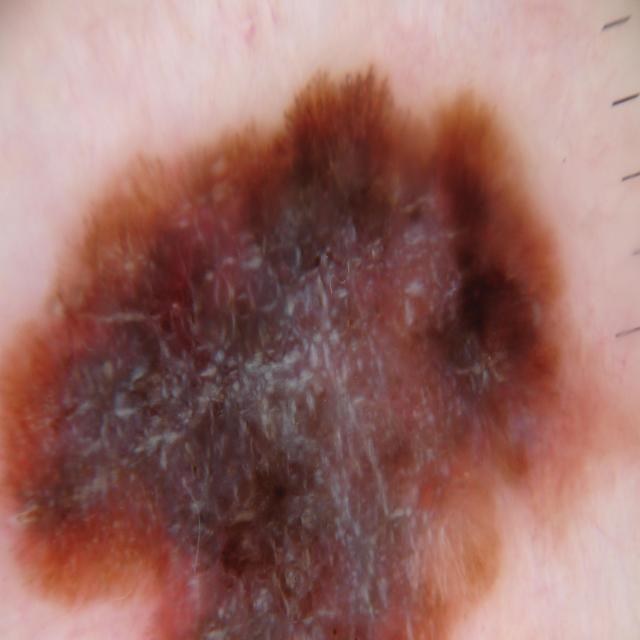Melanoma: (0, 79, 567, 640)
